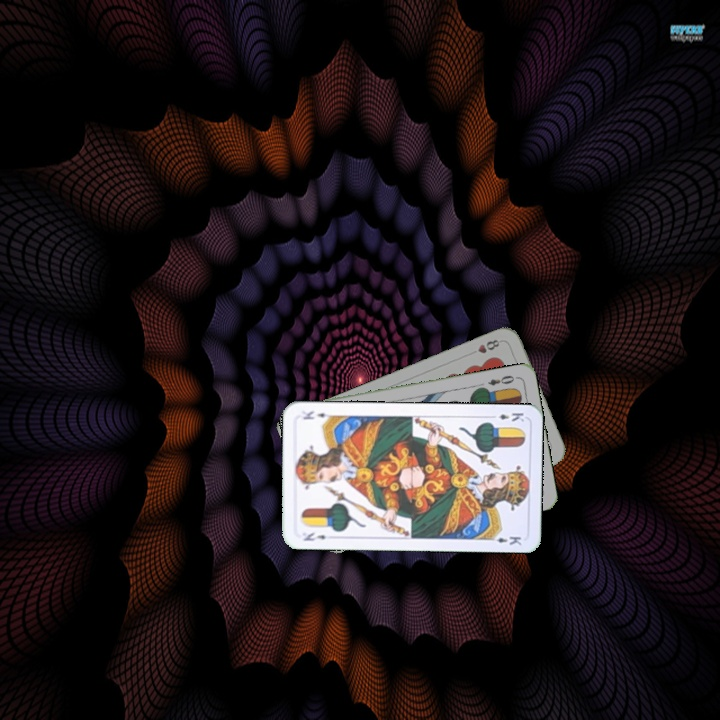EK: (486, 409, 526, 424), (300, 528, 328, 543)
EO: (484, 371, 520, 388)
H8: (473, 335, 504, 356)
